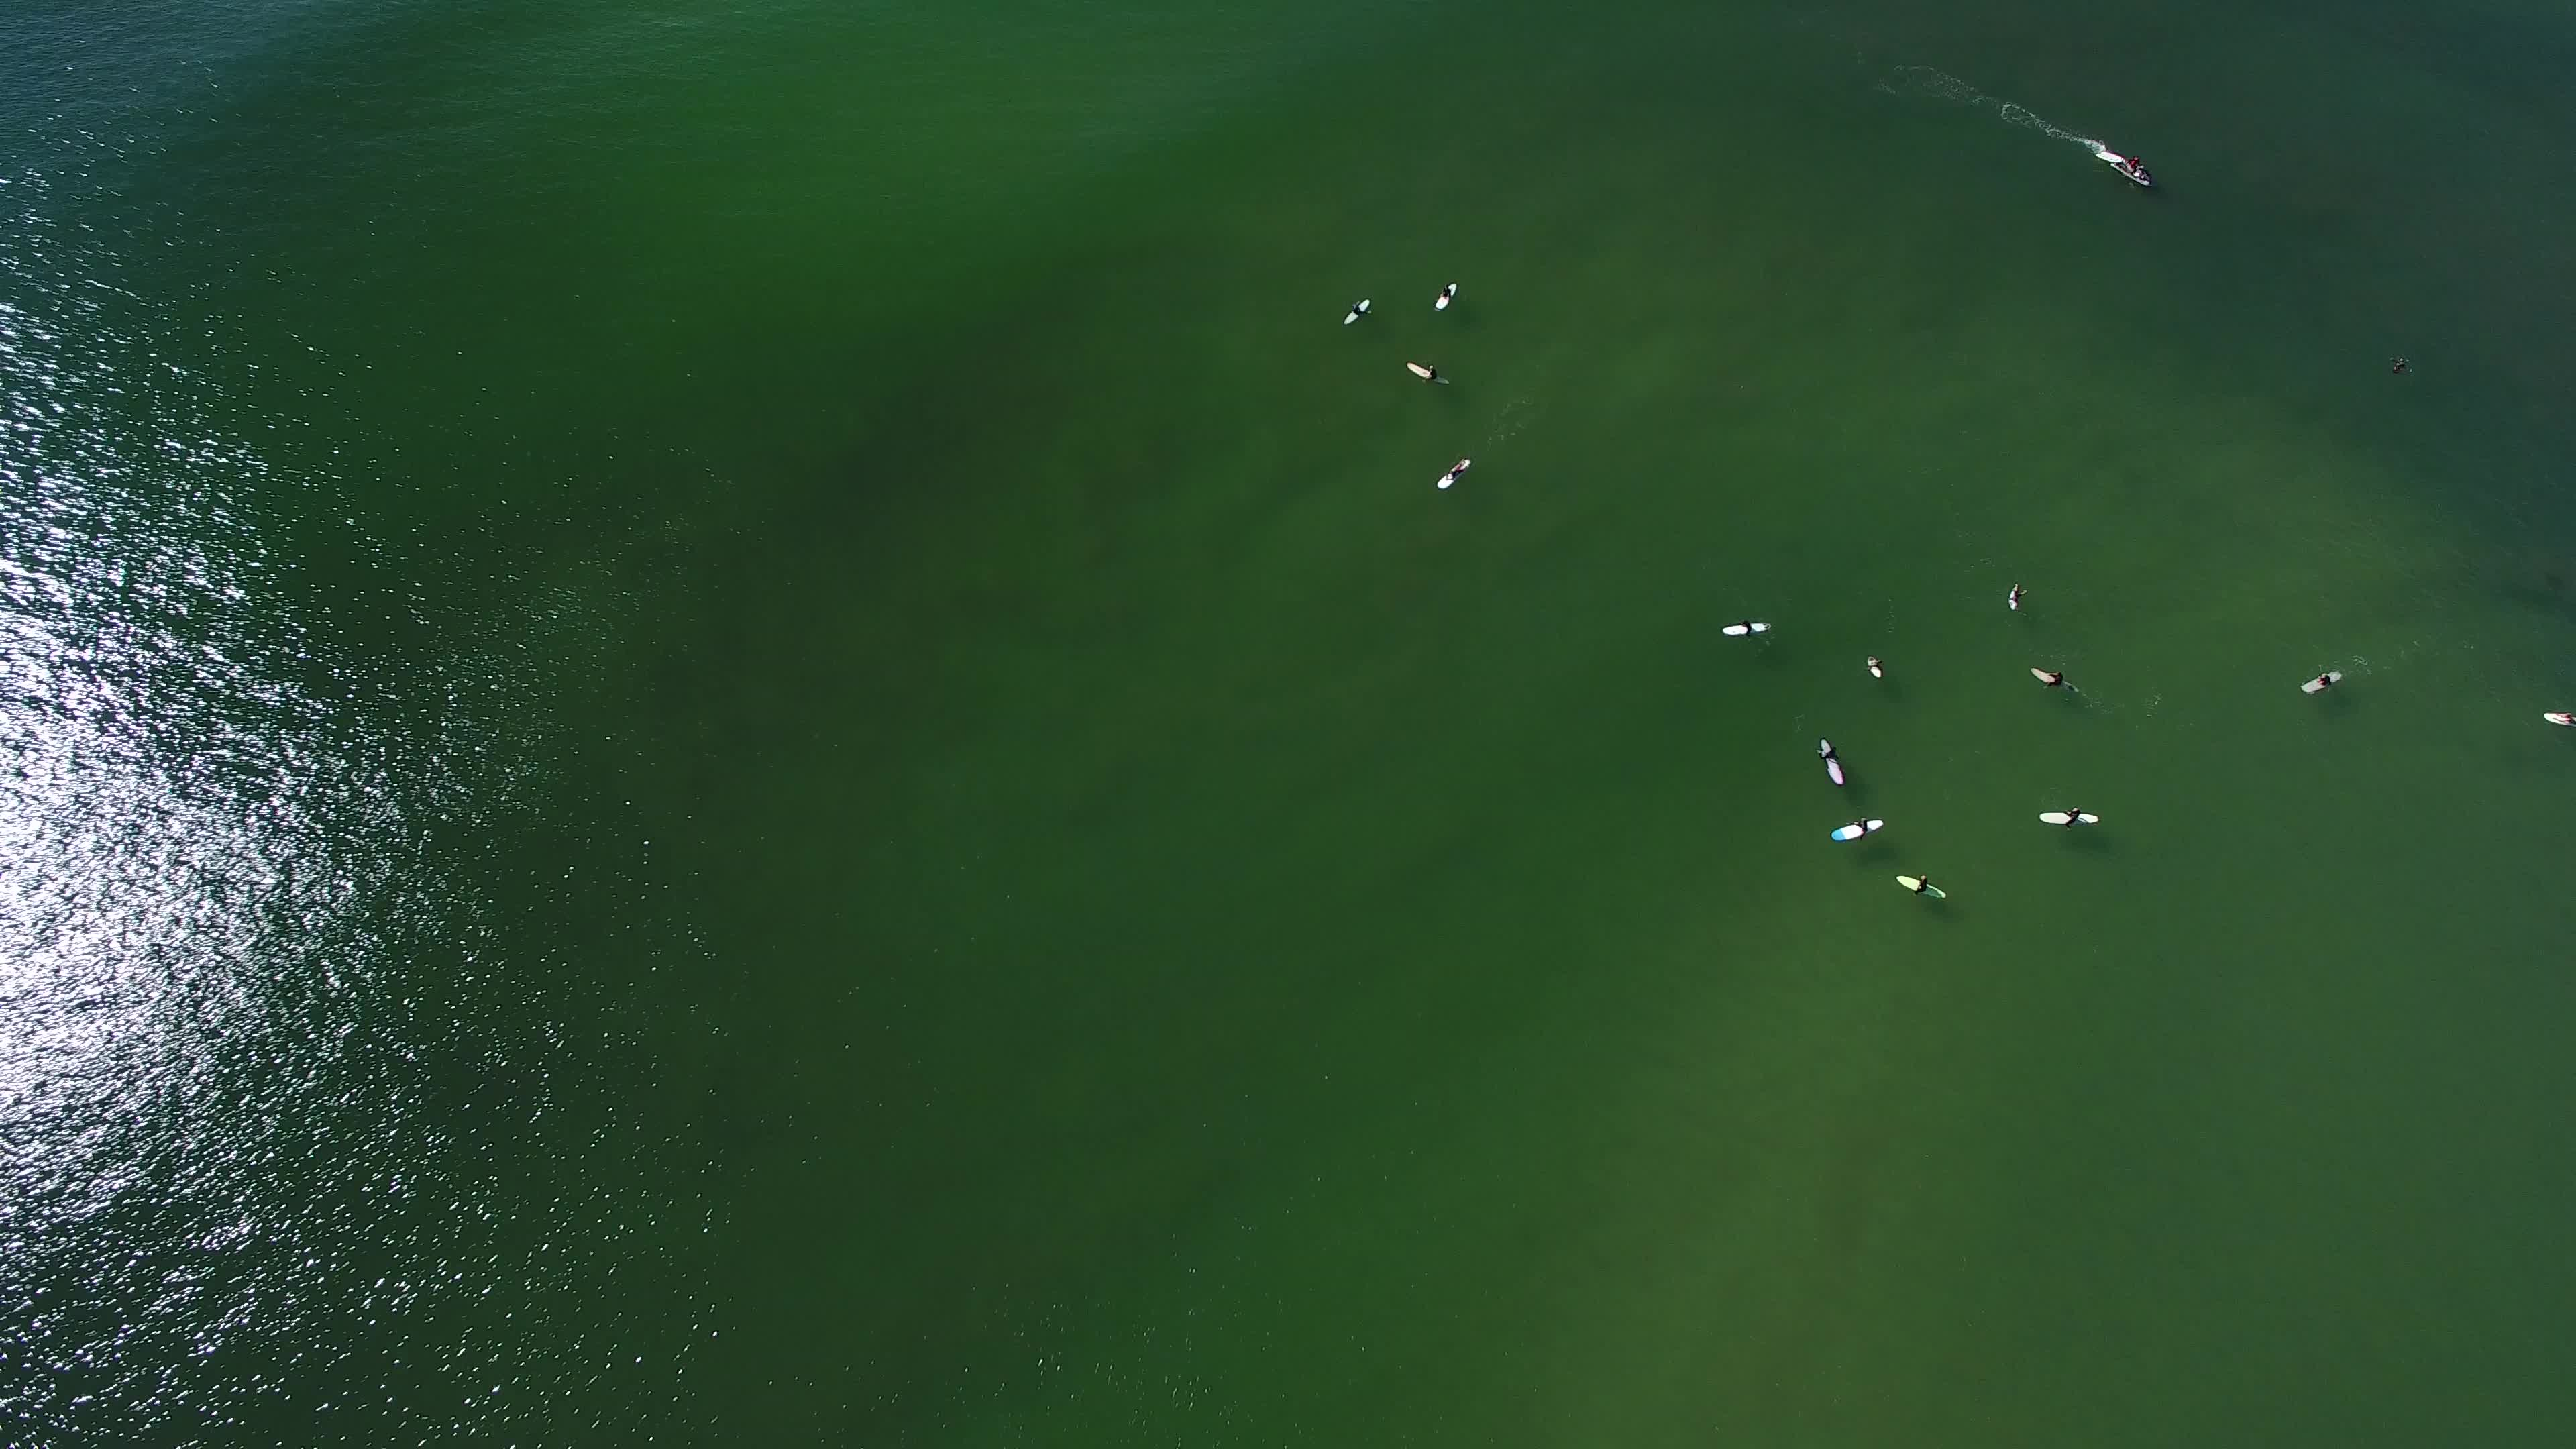surfer: (2020, 660, 2088, 701), (1826, 810, 1893, 849), (1890, 867, 1957, 904), (1808, 738, 1854, 791), (1718, 609, 1776, 648), (1430, 455, 1484, 495), (2298, 660, 2348, 702), (1430, 276, 1467, 320), (2043, 805, 2100, 832), (1330, 297, 1380, 327), (1405, 364, 1460, 389), (2535, 701, 2576, 731), (2001, 580, 2031, 616), (1863, 655, 1891, 688)
